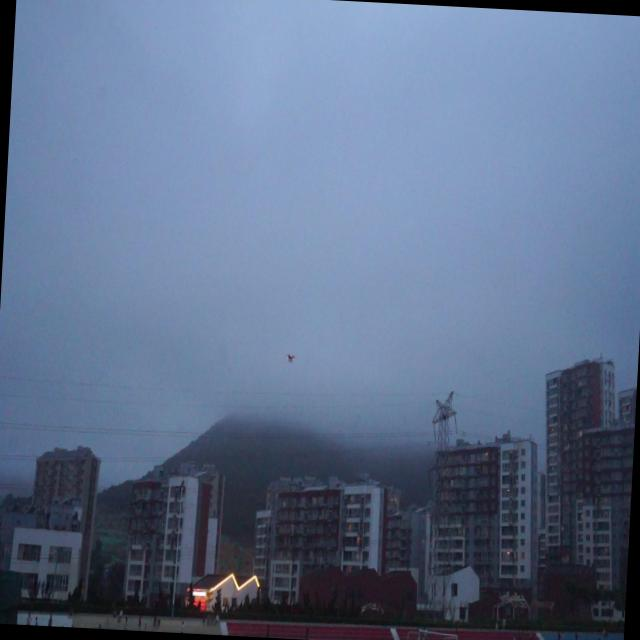drone: (286, 349, 296, 366)
